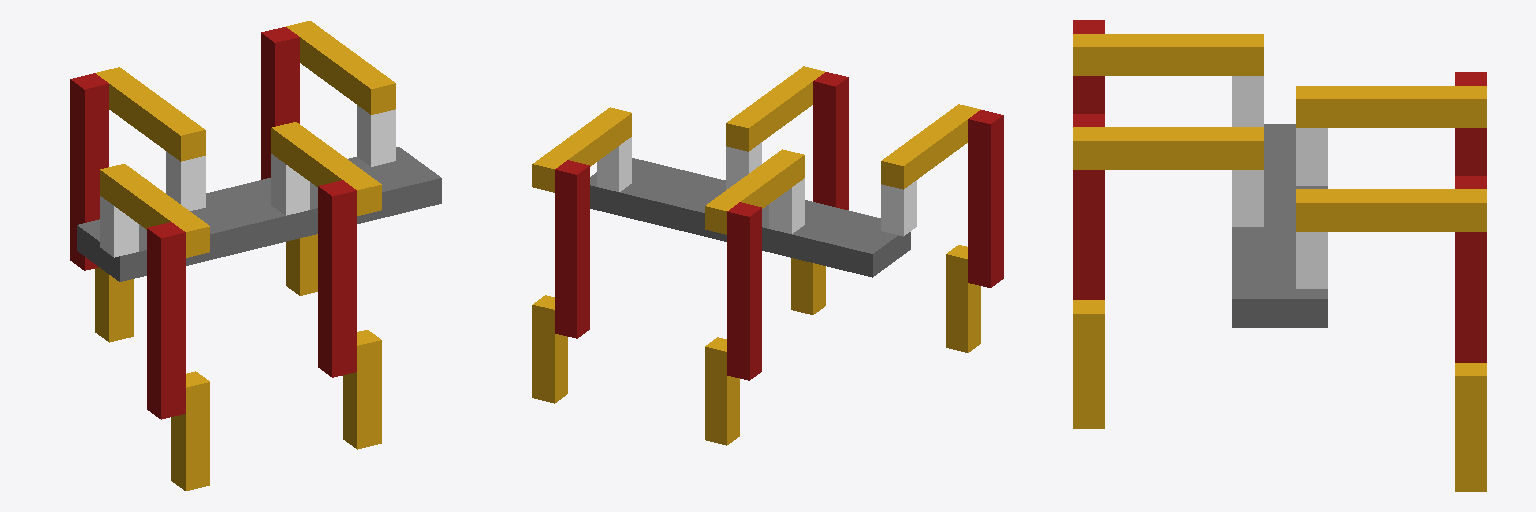
robot.urdf — v0:
<?xml version="1.0" encoding="utf-8"?>
<!-- =================================================================================== -->
<!-- |    This document was autogenerated by xacro from ../robots/v0variants/xacros/v0_4l_24.xacro | -->
<!-- |    EDITING THIS FILE BY HAND IS NOT RECOMMENDED                                 | -->
<!-- =================================================================================== -->
<robot name="v0">
  <material name="grey">
    <color rgba="0.5 0.5 0.5 1"/>
  </material>
  <material name="white">
    <color rgba="1 1 1 1"/>
  </material>
  <material name="yellow">
    <color rgba="0.91 0.7 0.14 1"/>
  </material>
  <material name="red">
    <color rgba="0.71 0.14 0.14 1"/>
  </material>
  <link name="body">
    <visual>
      <geometry>
        <box size="1.3 0.3 0.1"/>
      </geometry>
      <material name="grey"/>
      <origin rpy="0 0 0" xyz="0 0 0.7"/>
    </visual>
    <collision>
      <geometry>
        <box size="1.3 0.3 0.1"/>
      </geometry>
      <origin rpy="0 0 0" xyz="0 0 0.7"/>
    </collision>
    <inertial>
      <mass value="99.84"/>
      <inertia ixx="0.832" ixy="0.0" ixz="0.0" iyy="14.144" iyz="0.0" izz="14.8096"/>
    </inertial>
  </link>
  <link name="l1_segment_1">
    <visual>
      <geometry>
        <box size="0.1 0.1 0.2"/>
      </geometry>
      <material name="white"/>
      <origin rpy="0 0 0" xyz="0 0 0.1"/>
    </visual>
    <collision>
      <geometry>
        <box size="0.1 0.1 0.2"/>
      </geometry>
      <origin rpy="0 0 0" xyz="0 0 0.1"/>
    </collision>
    <inertial>
      <mass value="5.12"/>
      <inertia ixx="0.0213333333333" ixy="0.0" ixz="0.0" iyy="0.0213333333333" iyz="0.0" izz="0.00853333333333"/>
    </inertial>
  </link>
  <joint name="l1_base_to_joint_1" type="fixed">
    <parent link="body"/>
    <child link="l1_segment_1"/>
    <origin rpy="0 0 0" xyz="-0.23847289262901633 0.1 0.75"/>
  </joint>
  <link name="l1_segment_2_HIP">
    <visual>
      <geometry>
        <box size="0.1 0.6 0.1"/>
      </geometry>
      <material name="yellow"/>
      <origin rpy="0 0 0" xyz="0 0.25 0"/>
    </visual>
    <collision>
      <geometry>
        <box size="0.1 0.6 0.1"/>
      </geometry>
      <origin rpy="0 0 0" xyz="0 0.25 0"/>
    </collision>
    <inertial>
      <mass value="15.36"/>
      <inertia ixx="0.4736" ixy="0.0" ixz="0.0" iyy="0.0256" iyz="0.0" izz="0.4736"/>
    </inertial>
  </link>
  <joint name="l1_joint_1_to_2" type="revolute">
    <parent link="l1_segment_1"/>
    <child link="l1_segment_2_HIP"/>
    <origin rpy="0 0 0" xyz="0 0 0.25"/>
    <axis xyz="0.0 0.0 1.0"/>
    <limit effort="2048" lower="-1.2" upper="1.2" velocity="20"/>
  </joint>
  <link name="l1_segment_3_THIGH">
    <visual>
      <geometry>
        <box size="0.1 0.1 0.7"/>
      </geometry>
      <material name="red"/>
      <origin rpy="0 0 0" xyz="0 0 -0.3"/>
    </visual>
    <collision>
      <geometry>
        <box size="0.1 0.1 0.7"/>
      </geometry>
      <origin rpy="0 0 0" xyz="0 0 -0.3"/>
    </collision>
    <inertial>
      <mass value="17.92"/>
      <inertia ixx="0.746666666667" ixy="0.0" ixz="0.0" iyy="0.746666666667" iyz="0.0" izz="0.0298666666667"/>
    </inertial>
  </link>
  <joint name="l1_joint_2_to_3" type="revolute">
    <parent link="l1_segment_2_HIP"/>
    <child link="l1_segment_3_THIGH"/>
    <origin rpy="0 0 0" xyz="-0.1 0.5 0"/>
    <axis xyz="1.0 0.0 0.0"/>
    <limit effort="2048" lower="-0.2" upper="0.75" velocity="20"/>
  </joint>
  <link name="l1_segment_4_FOOT">
    <visual>
      <geometry>
        <box size="0.1 0.1 0.4"/>
      </geometry>
      <material name="yellow"/>
      <origin rpy="0 0 0" xyz="0 0 -0.2"/>
    </visual>
    <collision>
      <geometry>
        <box size="0.1 0.1 0.4"/>
      </geometry>
      <origin rpy="0 0 0" xyz="0 0 -0.2"/>
    </collision>
    <inertial>
      <mass value="10.24"/>
      <inertia ixx="0.145066666667" ixy="0.0" ixz="0.0" iyy="0.145066666667" iyz="0.0" izz="0.0170666666667"/>
    </inertial>
  </link>
  <joint name="l1_joint_3_to_4_FOOT" type="revolute">
    <parent link="l1_segment_3_THIGH"/>
    <child link="l1_segment_4_FOOT"/>
    <origin rpy="0 0 0" xyz="0.1 0 -0.55"/>
    <axis xyz="1.0 0.0 0.0"/>
    <limit effort="2048" lower="-0.2" upper="0.5" velocity="20"/>
  </joint>
  <link name="r2_segment_1">
    <visual>
      <geometry>
        <box size="0.1 0.1 0.2"/>
      </geometry>
      <material name="white"/>
      <origin rpy="0 0 0" xyz="0 0 0.1"/>
    </visual>
    <collision>
      <geometry>
        <box size="0.1 0.1 0.2"/>
      </geometry>
      <origin rpy="0 0 0" xyz="0 0 0.1"/>
    </collision>
    <inertial>
      <mass value="5.12"/>
      <inertia ixx="0.0213333333333" ixy="0.0" ixz="0.0" iyy="0.0213333333333" iyz="0.0" izz="0.00853333333333"/>
    </inertial>
  </link>
  <joint name="r2_base_to_joint_1" type="fixed">
    <parent link="body"/>
    <child link="r2_segment_1"/>
    <origin rpy="0 0 0" xyz="-0.6227107599491356 -0.1 0.75"/>
  </joint>
  <link name="r2_segment_2_HIP">
    <visual>
      <geometry>
        <box size="0.1 0.6 0.1"/>
      </geometry>
      <material name="yellow"/>
      <origin rpy="0 0 0" xyz="0 -0.25 0"/>
    </visual>
    <collision>
      <geometry>
        <box size="0.1 0.6 0.1"/>
      </geometry>
      <origin rpy="0 0 0" xyz="0 -0.25 0"/>
    </collision>
    <inertial>
      <mass value="15.36"/>
      <inertia ixx="0.4736" ixy="0.0" ixz="0.0" iyy="0.0256" iyz="0.0" izz="0.4736"/>
    </inertial>
  </link>
  <joint name="r2_joint_1_to_2" type="revolute">
    <parent link="r2_segment_1"/>
    <child link="r2_segment_2_HIP"/>
    <origin rpy="0 0 0" xyz="0 0 0.25"/>
    <axis xyz="0.0 0.0 1.0"/>
    <limit effort="2048" lower="-1.2" upper="1.2" velocity="20"/>
  </joint>
  <link name="r2_segment_3_THIGH">
    <visual>
      <geometry>
        <box size="0.1 0.1 0.7"/>
      </geometry>
      <material name="red"/>
      <origin rpy="0 0 0" xyz="0 0 -0.3"/>
    </visual>
    <collision>
      <geometry>
        <box size="0.1 0.1 0.7"/>
      </geometry>
      <origin rpy="0 0 0" xyz="0 0 -0.3"/>
    </collision>
    <inertial>
      <mass value="17.92"/>
      <inertia ixx="0.746666666667" ixy="0.0" ixz="0.0" iyy="0.746666666667" iyz="0.0" izz="0.0298666666667"/>
    </inertial>
  </link>
  <joint name="r2_joint_2_to_3" type="revolute">
    <parent link="r2_segment_2_HIP"/>
    <child link="r2_segment_3_THIGH"/>
    <origin rpy="0 0 0" xyz="-0.1 -0.5 0"/>
    <axis xyz="1.0 0.0 0.0"/>
    <limit effort="2048" lower="-0.75" upper="0.2" velocity="20"/>
  </joint>
  <link name="r2_segment_4_FOOT">
    <visual>
      <geometry>
        <box size="0.1 0.1 0.4"/>
      </geometry>
      <material name="yellow"/>
      <origin rpy="0 0 0" xyz="0 0 -0.2"/>
    </visual>
    <collision>
      <geometry>
        <box size="0.1 0.1 0.4"/>
      </geometry>
      <origin rpy="0 0 0" xyz="0 0 -0.2"/>
    </collision>
    <inertial>
      <mass value="10.24"/>
      <inertia ixx="0.145066666667" ixy="0.0" ixz="0.0" iyy="0.145066666667" iyz="0.0" izz="0.0170666666667"/>
    </inertial>
  </link>
  <joint name="r2_joint_3_to_4_FOOT" type="revolute">
    <parent link="r2_segment_3_THIGH"/>
    <child link="r2_segment_4_FOOT"/>
    <origin rpy="0 0 0" xyz="0.1 0 -0.55"/>
    <axis xyz="1.0 0.0 0.0"/>
    <limit effort="2048" lower="-0.5" upper="0.2" velocity="20"/>
  </joint>
  <link name="l3_segment_1">
    <visual>
      <geometry>
        <box size="0.1 0.1 0.2"/>
      </geometry>
      <material name="white"/>
      <origin rpy="0 0 0" xyz="0 0 0.1"/>
    </visual>
    <collision>
      <geometry>
        <box size="0.1 0.1 0.2"/>
      </geometry>
      <origin rpy="0 0 0" xyz="0 0 0.1"/>
    </collision>
    <inertial>
      <mass value="5.12"/>
      <inertia ixx="0.0213333333333" ixy="0.0" ixz="0.0" iyy="0.0213333333333" iyz="0.0" izz="0.00853333333333"/>
    </inertial>
  </link>
  <joint name="l3_base_to_joint_1" type="fixed">
    <parent link="body"/>
    <child link="l3_segment_1"/>
    <origin rpy="0 0 0" xyz="0.531343541804176 0.1 0.75"/>
  </joint>
  <link name="l3_segment_2_HIP">
    <visual>
      <geometry>
        <box size="0.1 0.6 0.1"/>
      </geometry>
      <material name="yellow"/>
      <origin rpy="0 0 0" xyz="0 0.25 0"/>
    </visual>
    <collision>
      <geometry>
        <box size="0.1 0.6 0.1"/>
      </geometry>
      <origin rpy="0 0 0" xyz="0 0.25 0"/>
    </collision>
    <inertial>
      <mass value="15.36"/>
      <inertia ixx="0.4736" ixy="0.0" ixz="0.0" iyy="0.0256" iyz="0.0" izz="0.4736"/>
    </inertial>
  </link>
  <joint name="l3_joint_1_to_2" type="revolute">
    <parent link="l3_segment_1"/>
    <child link="l3_segment_2_HIP"/>
    <origin rpy="0 0 0" xyz="0 0 0.25"/>
    <axis xyz="0.0 0.0 1.0"/>
    <limit effort="2048" lower="-1.2" upper="1.2" velocity="20"/>
  </joint>
  <link name="l3_segment_3_THIGH">
    <visual>
      <geometry>
        <box size="0.1 0.1 0.7"/>
      </geometry>
      <material name="red"/>
      <origin rpy="0 0 0" xyz="0 0 -0.3"/>
    </visual>
    <collision>
      <geometry>
        <box size="0.1 0.1 0.7"/>
      </geometry>
      <origin rpy="0 0 0" xyz="0 0 -0.3"/>
    </collision>
    <inertial>
      <mass value="17.92"/>
      <inertia ixx="0.746666666667" ixy="0.0" ixz="0.0" iyy="0.746666666667" iyz="0.0" izz="0.0298666666667"/>
    </inertial>
  </link>
  <joint name="l3_joint_2_to_3" type="revolute">
    <parent link="l3_segment_2_HIP"/>
    <child link="l3_segment_3_THIGH"/>
    <origin rpy="0 0 0" xyz="-0.1 0.5 0"/>
    <axis xyz="1.0 0.0 0.0"/>
    <limit effort="2048" lower="-0.2" upper="0.75" velocity="20"/>
  </joint>
  <link name="l3_segment_4_FOOT">
    <visual>
      <geometry>
        <box size="0.1 0.1 0.4"/>
      </geometry>
      <material name="yellow"/>
      <origin rpy="0 0 0" xyz="0 0 -0.2"/>
    </visual>
    <collision>
      <geometry>
        <box size="0.1 0.1 0.4"/>
      </geometry>
      <origin rpy="0 0 0" xyz="0 0 -0.2"/>
    </collision>
    <inertial>
      <mass value="10.24"/>
      <inertia ixx="0.145066666667" ixy="0.0" ixz="0.0" iyy="0.145066666667" iyz="0.0" izz="0.0170666666667"/>
    </inertial>
  </link>
  <joint name="l3_joint_3_to_4_FOOT" type="revolute">
    <parent link="l3_segment_3_THIGH"/>
    <child link="l3_segment_4_FOOT"/>
    <origin rpy="0 0 0" xyz="0.1 0 -0.55"/>
    <axis xyz="1.0 0.0 0.0"/>
    <limit effort="2048" lower="-0.2" upper="0.5" velocity="20"/>
  </joint>
  <link name="r4_segment_1">
    <visual>
      <geometry>
        <box size="0.1 0.1 0.2"/>
      </geometry>
      <material name="white"/>
      <origin rpy="0 0 0" xyz="0 0 0.1"/>
    </visual>
    <collision>
      <geometry>
        <box size="0.1 0.1 0.2"/>
      </geometry>
      <origin rpy="0 0 0" xyz="0 0 0.1"/>
    </collision>
    <inertial>
      <mass value="5.12"/>
      <inertia ixx="0.0213333333333" ixy="0.0" ixz="0.0" iyy="0.0213333333333" iyz="0.0" izz="0.00853333333333"/>
    </inertial>
  </link>
  <joint name="r4_base_to_joint_1" type="fixed">
    <parent link="body"/>
    <child link="r4_segment_1"/>
    <origin rpy="0 0 0" xyz="0.06978269641848456 -0.1 0.75"/>
  </joint>
  <link name="r4_segment_2_HIP">
    <visual>
      <geometry>
        <box size="0.1 0.6 0.1"/>
      </geometry>
      <material name="yellow"/>
      <origin rpy="0 0 0" xyz="0 -0.25 0"/>
    </visual>
    <collision>
      <geometry>
        <box size="0.1 0.6 0.1"/>
      </geometry>
      <origin rpy="0 0 0" xyz="0 -0.25 0"/>
    </collision>
    <inertial>
      <mass value="15.36"/>
      <inertia ixx="0.4736" ixy="0.0" ixz="0.0" iyy="0.0256" iyz="0.0" izz="0.4736"/>
    </inertial>
  </link>
  <joint name="r4_joint_1_to_2" type="revolute">
    <parent link="r4_segment_1"/>
    <child link="r4_segment_2_HIP"/>
    <origin rpy="0 0 0" xyz="0 0 0.25"/>
    <axis xyz="0.0 0.0 1.0"/>
    <limit effort="2048" lower="-1.2" upper="1.2" velocity="20"/>
  </joint>
  <link name="r4_segment_3_THIGH">
    <visual>
      <geometry>
        <box size="0.1 0.1 0.7"/>
      </geometry>
      <material name="red"/>
      <origin rpy="0 0 0" xyz="0 0 -0.3"/>
    </visual>
    <collision>
      <geometry>
        <box size="0.1 0.1 0.7"/>
      </geometry>
      <origin rpy="0 0 0" xyz="0 0 -0.3"/>
    </collision>
    <inertial>
      <mass value="17.92"/>
      <inertia ixx="0.746666666667" ixy="0.0" ixz="0.0" iyy="0.746666666667" iyz="0.0" izz="0.0298666666667"/>
    </inertial>
  </link>
  <joint name="r4_joint_2_to_3" type="revolute">
    <parent link="r4_segment_2_HIP"/>
    <child link="r4_segment_3_THIGH"/>
    <origin rpy="0 0 0" xyz="-0.1 -0.5 0"/>
    <axis xyz="1.0 0.0 0.0"/>
    <limit effort="2048" lower="-0.75" upper="0.2" velocity="20"/>
  </joint>
  <link name="r4_segment_4_FOOT">
    <visual>
      <geometry>
        <box size="0.1 0.1 0.4"/>
      </geometry>
      <material name="yellow"/>
      <origin rpy="0 0 0" xyz="0 0 -0.2"/>
    </visual>
    <collision>
      <geometry>
        <box size="0.1 0.1 0.4"/>
      </geometry>
      <origin rpy="0 0 0" xyz="0 0 -0.2"/>
    </collision>
    <inertial>
      <mass value="10.24"/>
      <inertia ixx="0.145066666667" ixy="0.0" ixz="0.0" iyy="0.145066666667" iyz="0.0" izz="0.0170666666667"/>
    </inertial>
  </link>
  <joint name="r4_joint_3_to_4_FOOT" type="revolute">
    <parent link="r4_segment_3_THIGH"/>
    <child link="r4_segment_4_FOOT"/>
    <origin rpy="0 0 0" xyz="0.1 0 -0.55"/>
    <axis xyz="1.0 0.0 0.0"/>
    <limit effort="2048" lower="-0.5" upper="0.2" velocity="20"/>
  </joint>
</robot>

--- Facts derived from the render (not from the file) ---
3 views of the same robot in one strip: view 1: azimuth 30°, elevation 25°; view 2: azimuth 150°, elevation 25°; view 3: azimuth 270°, elevation 25° (orthographic).
Robot: v0 — 17 links, 16 joints (12 revolute, 4 fixed); root link body; default pose: every joint at zero.
Links seen in each view (by area): view 1: body, r4_segment_3_THIGH, r2_segment_3_THIGH, l1_segment_3_THIGH, l1_segment_2_HIP, l3_segment_2_HIP, r4_segment_2_HIP, l3_segment_3_THIGH, r2_segment_2_HIP, r4_segment_4_FOOT, r2_segment_4_FOOT, l1_segment_4_FOOT (+5 smaller); view 2: body, r2_segment_3_THIGH, l3_segment_3_THIGH, l1_segment_3_THIGH, r4_segment_3_THIGH, r2_segment_2_HIP, r4_segment_2_HIP, l3_segment_2_HIP, l1_segment_2_HIP, l3_segment_4_FOOT, r2_segment_4_FOOT, l1_segment_4_FOOT (+5 smaller); view 3: body, l3_segment_2_HIP, r4_segment_2_HIP, l1_segment_2_HIP, r2_segment_2_HIP, l3_segment_3_THIGH, r4_segment_3_THIGH, l3_segment_4_FOOT, r4_segment_4_FOOT, l1_segment_3_THIGH, l1_segment_1, l3_segment_1 (+3 smaller).
Link boxes in pixels (bbox=[...]): body: bbox=[77, 147, 441, 281]; r4_segment_3_THIGH: bbox=[318, 180, 356, 377]; r2_segment_3_THIGH: bbox=[147, 222, 185, 419]; l1_segment_3_THIGH: bbox=[70, 73, 108, 270]; l1_segment_2_HIP: bbox=[96, 67, 205, 161]; l3_segment_2_HIP: bbox=[286, 21, 395, 114]; r4_segment_2_HIP: bbox=[271, 122, 381, 215]; l3_segment_3_THIGH: bbox=[261, 27, 299, 179]; r2_segment_2_HIP: bbox=[100, 164, 209, 257]; r4_segment_4_FOOT: bbox=[343, 330, 381, 449]; r2_segment_4_FOOT: bbox=[171, 371, 209, 490]; l1_segment_4_FOOT: bbox=[95, 267, 133, 342]; body: bbox=[590, 158, 910, 277]; r2_segment_3_THIGH: bbox=[968, 110, 1003, 287]; l3_segment_3_THIGH: bbox=[555, 160, 589, 338]; l1_segment_3_THIGH: bbox=[727, 202, 761, 380]; r4_segment_3_THIGH: bbox=[813, 72, 848, 209]; r2_segment_2_HIP: bbox=[881, 104, 980, 189]; r4_segment_2_HIP: bbox=[726, 66, 824, 151]; l3_segment_2_HIP: bbox=[532, 107, 631, 192]; l1_segment_2_HIP: bbox=[705, 149, 804, 234]; l3_segment_4_FOOT: bbox=[532, 295, 567, 403]; r2_segment_4_FOOT: bbox=[946, 245, 980, 352]; l1_segment_4_FOOT: bbox=[705, 337, 739, 445]; body: bbox=[1232, 124, 1327, 327]; l3_segment_2_HIP: bbox=[1296, 189, 1486, 231]; r4_segment_2_HIP: bbox=[1073, 127, 1263, 169]; l1_segment_2_HIP: bbox=[1296, 86, 1486, 127]; r2_segment_2_HIP: bbox=[1073, 34, 1263, 75]; l3_segment_3_THIGH: bbox=[1455, 176, 1486, 362]; r4_segment_3_THIGH: bbox=[1073, 114, 1104, 299]; l3_segment_4_FOOT: bbox=[1455, 363, 1486, 491]; r4_segment_4_FOOT: bbox=[1073, 300, 1104, 428]; l1_segment_3_THIGH: bbox=[1455, 72, 1486, 175]; l1_segment_1: bbox=[1296, 128, 1327, 185]; l3_segment_1: bbox=[1296, 232, 1327, 288].
Size in the robot's own frame: 1.42 by 1.3 by 1 metres.
Geometry: primitives only (box / cylinder / sphere), no mesh files.